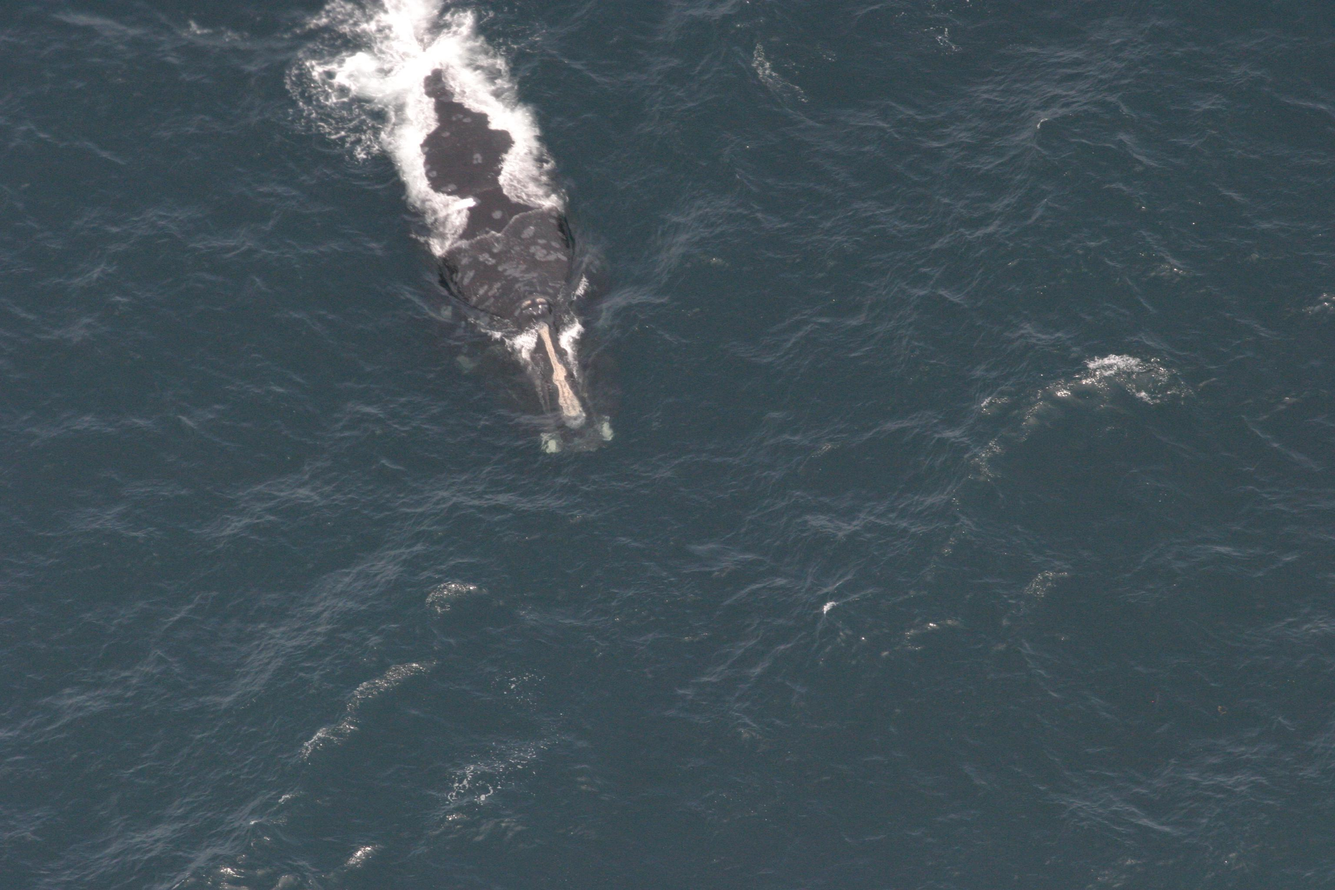whale: (321, 0, 630, 468)
